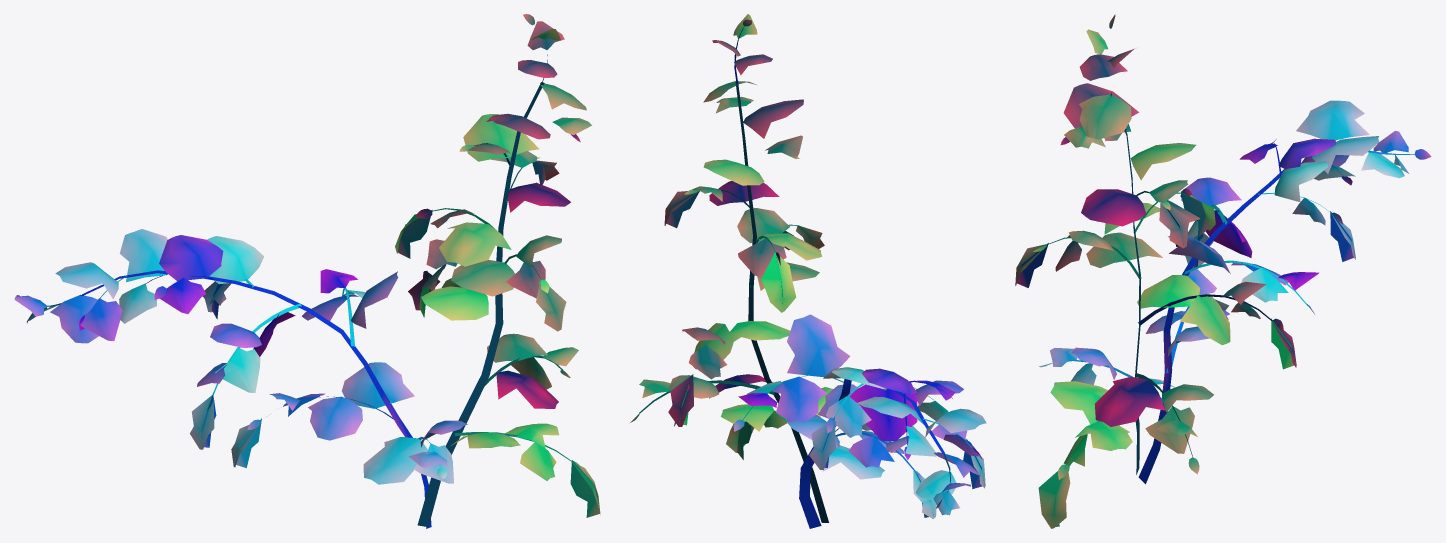
The model's file is Raspberry_wf0oefeja_High_wf0oefeja_VarF_LOD2.fbx.
The picture shows the model from 3 angles, left to right: view 1: azimuth 30°, elevation 25°; view 2: azimuth 150°, elevation 25°; view 3: azimuth 270°, elevation 25°; orthographic projection. The views are drawn at different scales.
Parts seen in each view (by area): view 1: _uped_VarF_LOD3; view 2: _uped_VarF_LOD3; view 3: _uped_VarF_LOD3.
Part boxes in pixels (left/top/right/bottom): _uped_VarF_LOD3: left=14, top=14, right=600, bottom=528; _uped_VarF_LOD3: left=630, top=14, right=986, bottom=528; _uped_VarF_LOD3: left=1015, top=14, right=1431, bottom=528.
Bounding box in the file's own units: 100 × 106 × 78.53.
